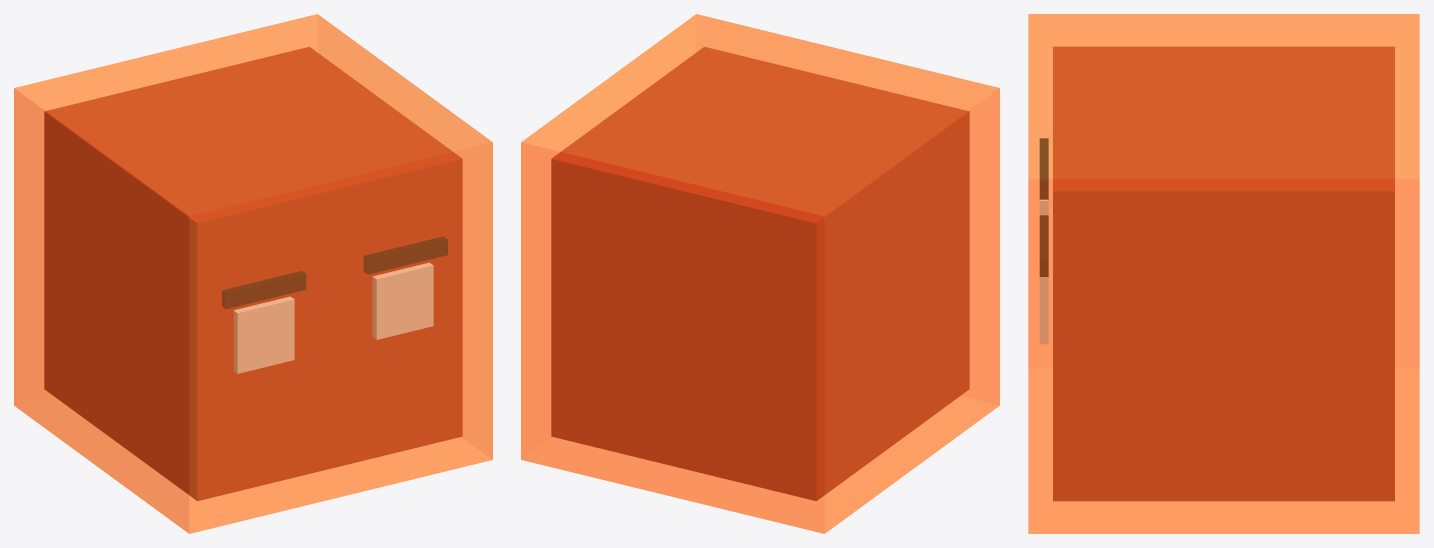
The model's file is movemoveBackReturns.fbx.
3 views of the same model, side by side, from view 1: azimuth 30°, elevation 25°; view 2: azimuth 150°, elevation 25°; view 3: azimuth 270°, elevation 25° (orthographic). The views are drawn at different scales.
Visible parts, largest first — view 1: outline, in body, Box006, Box005, Box004, Box003; view 2: outline, in body; view 3: outline, in body, Box006, Box004, Box003.
Boxes of the visible parts, <box> form: outline: <box>14,14,492,533</box>; in body: <box>44,47,462,500</box>; Box006: <box>372,262,433,339</box>; Box005: <box>233,296,294,373</box>; Box004: <box>363,236,447,274</box>; Box003: <box>222,271,306,308</box>; outline: <box>521,14,999,533</box>; in body: <box>551,47,969,500</box>; outline: <box>1028,14,1419,533</box>; in body: <box>1053,46,1394,501</box>; Box006: <box>1039,277,1048,344</box>; Box004: <box>1039,215,1048,276</box>; Box003: <box>1039,138,1048,199</box>.
Bounding box in the file's own units: 20 × 20 × 20.
